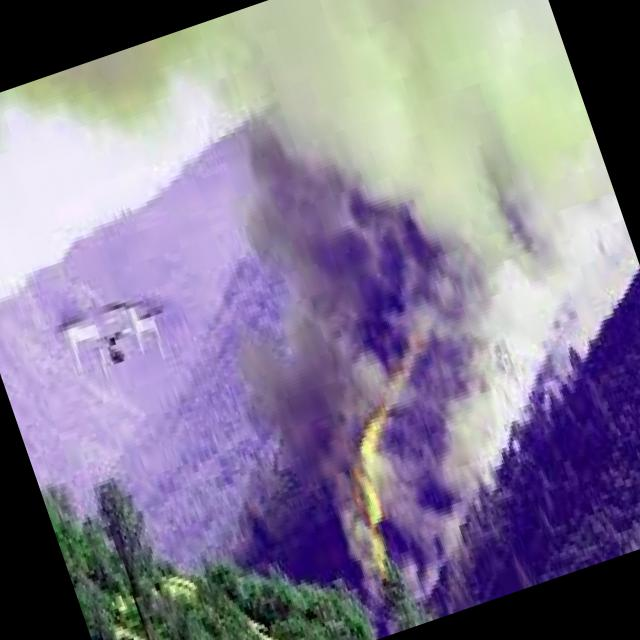drone: (36, 259, 180, 400)
